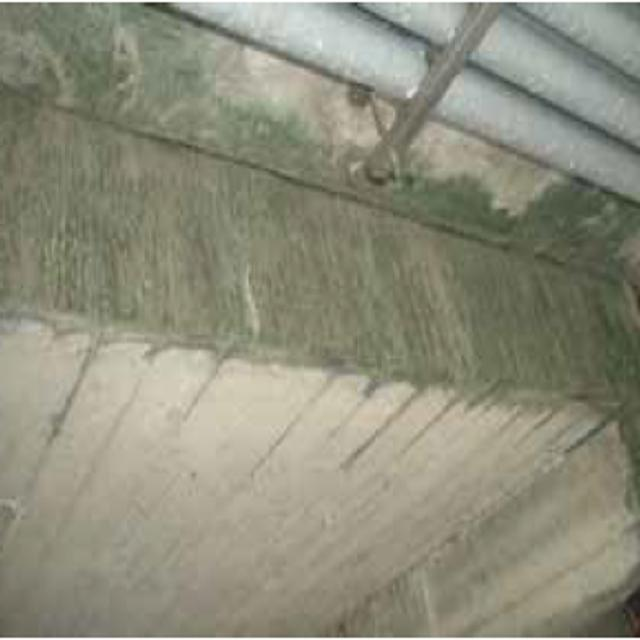leakage: (18, 27, 640, 457)
